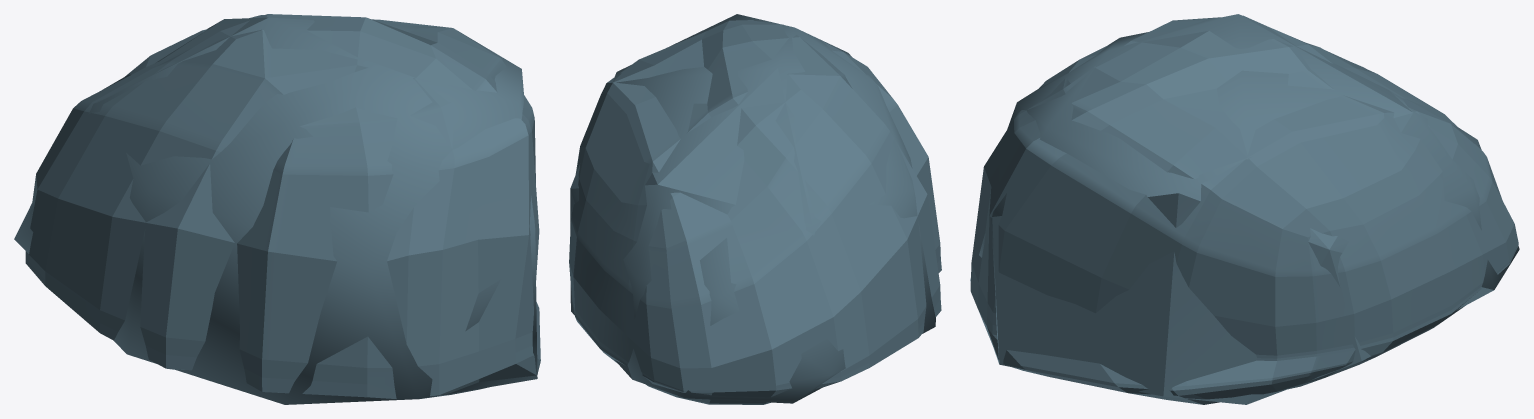
File: rocks_round_E.fbx
3 views of the same model, side by side, from view 1: azimuth 30°, elevation 25°; view 2: azimuth 150°, elevation 25°; view 3: azimuth 270°, elevation 25° (orthographic). The views are drawn at different scales.
Visible parts, largest first — view 1: ROCKSROUND_E, c_ROCKSROUND_E; view 2: ROCKSROUND_E, c_ROCKSROUND_E; view 3: ROCKSROUND_E, c_ROCKSROUND_E.
Part boxes in pixels (x1,y1,x2,y2): ROCKSROUND_E: (25, 14, 540, 398); c_ROCKSROUND_E: (14, 17, 537, 404); ROCKSROUND_E: (569, 20, 941, 404); c_ROCKSROUND_E: (570, 14, 935, 403); ROCKSROUND_E: (970, 15, 1518, 404); c_ROCKSROUND_E: (970, 14, 1519, 404).
Size of the model in its own units: 78.14 by 63.63 by 100.
